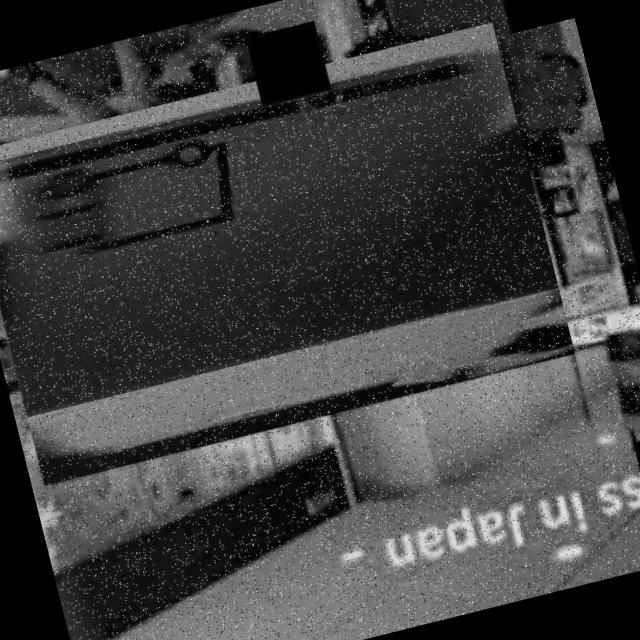box: (0, 14, 583, 491)
